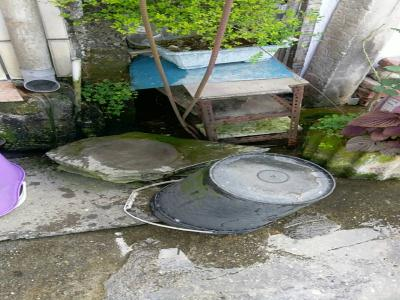bucket: (145, 152, 339, 239)
